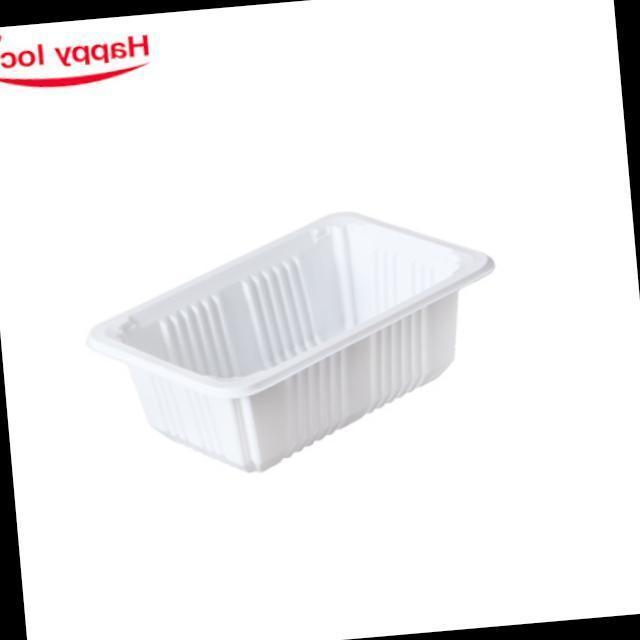disposable: (64, 183, 524, 488)
